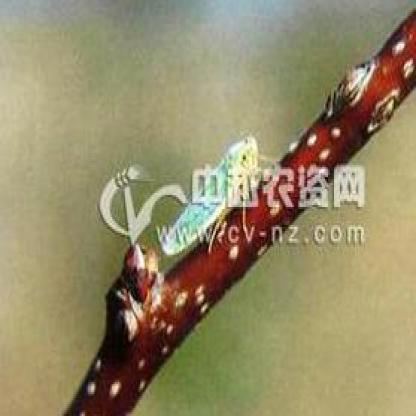Green-Leafhopper: (156, 131, 263, 254)
